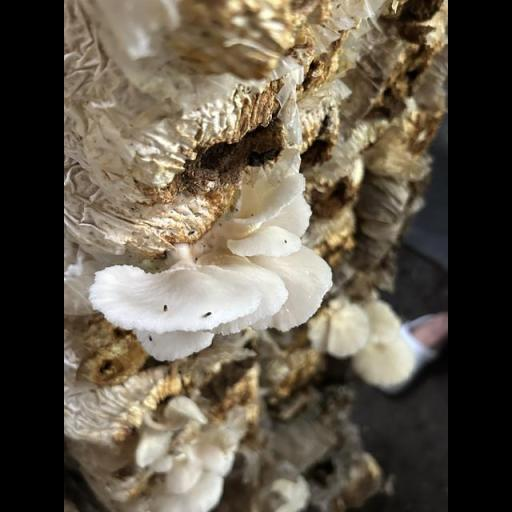White Oyster Mushroom: (87, 167, 332, 358)
